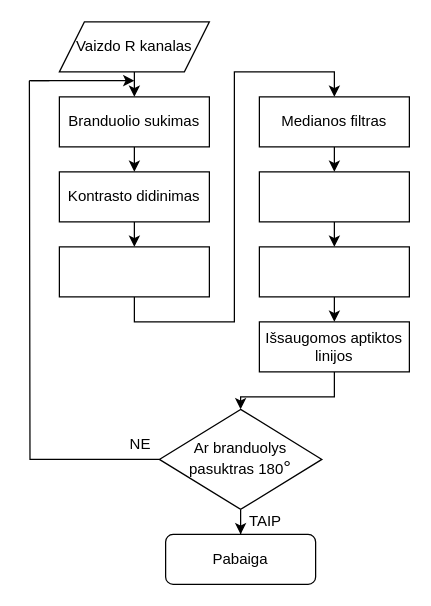
The diagram is 431 pixels wide and 606 high, and some of its shapes have lost their labels. Each missing label, with the centre of its shape:
"Hofo transformacija" belongs at (333,271).
"Slenkstinė riba 127" belongs at (133,271).
"Top-hat transformacija" belongs at (333,196).
